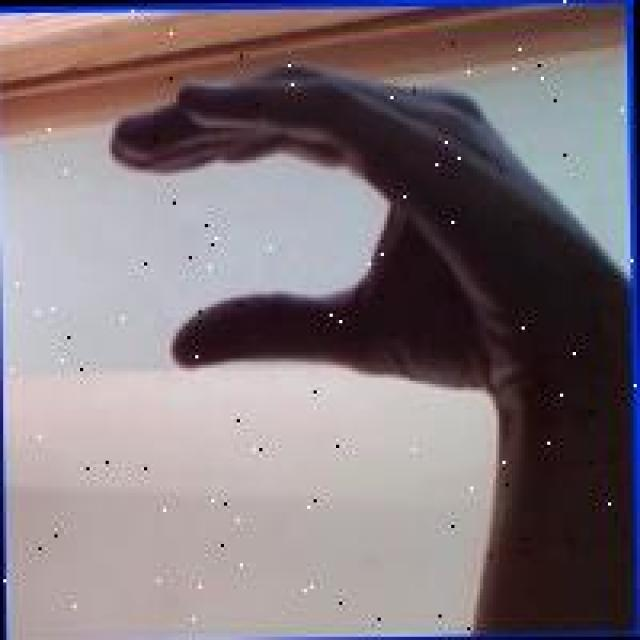C: (104, 53, 603, 424)
